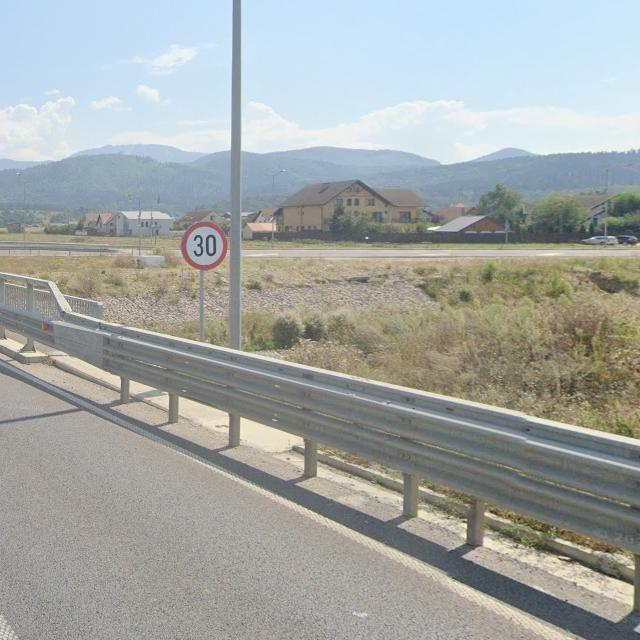forb_speed_over_30: (180, 219, 228, 270)
